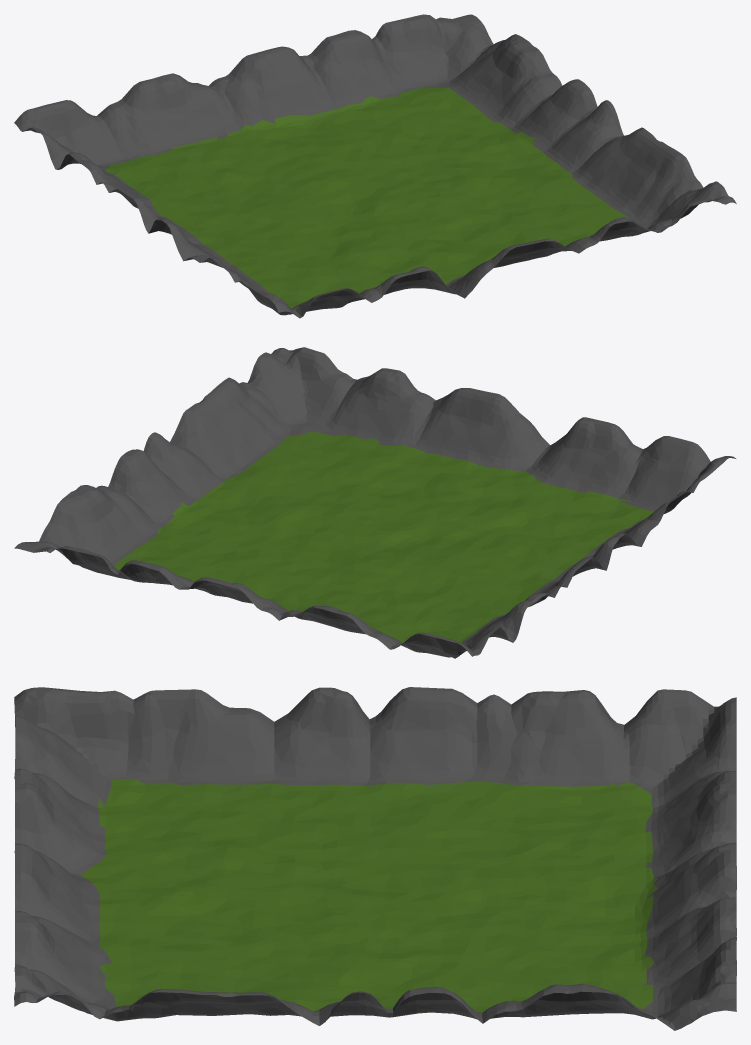
Rendered from terrain.fbx.
The picture shows the model from 3 angles, top to bottom: view 1: azimuth 30°, elevation 25°; view 2: azimuth 150°, elevation 25°; view 3: azimuth 270°, elevation 25°; orthographic projection. The views are drawn at different scales.
Visible parts, largest first — view 1: Plane; view 2: Plane; view 3: Plane.
Boxes of the visible parts, box(x1,y1,x2,y2) form: Plane: box(14, 14, 736, 318); Plane: box(14, 347, 735, 658); Plane: box(14, 687, 736, 1030).
Bounding box in the file's own units: 30096 × 3043 × 30104.
